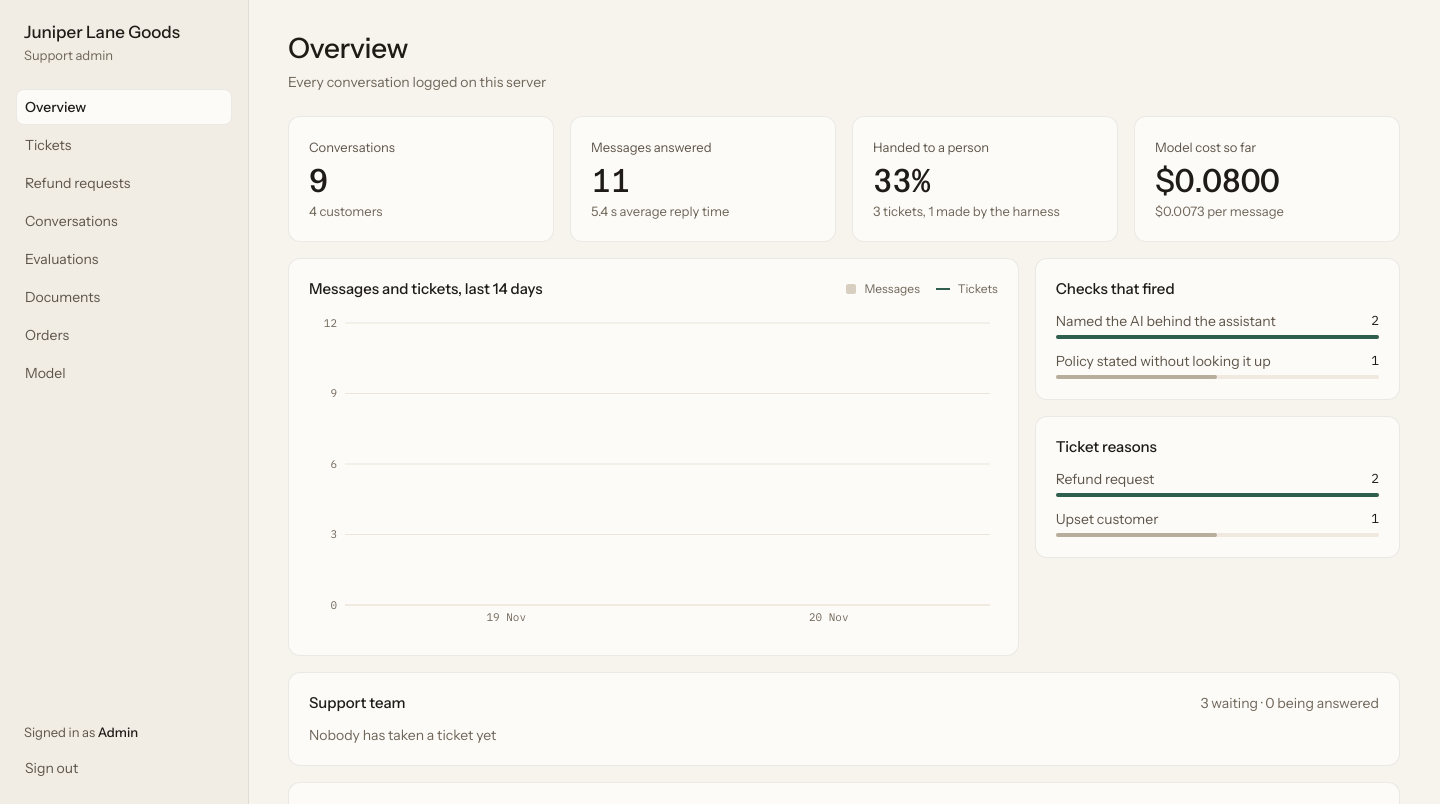
it: tickets › says so when there are no tickets yet
Click the button "Tickets".
click(124, 145)  # box [16,127,232,163]
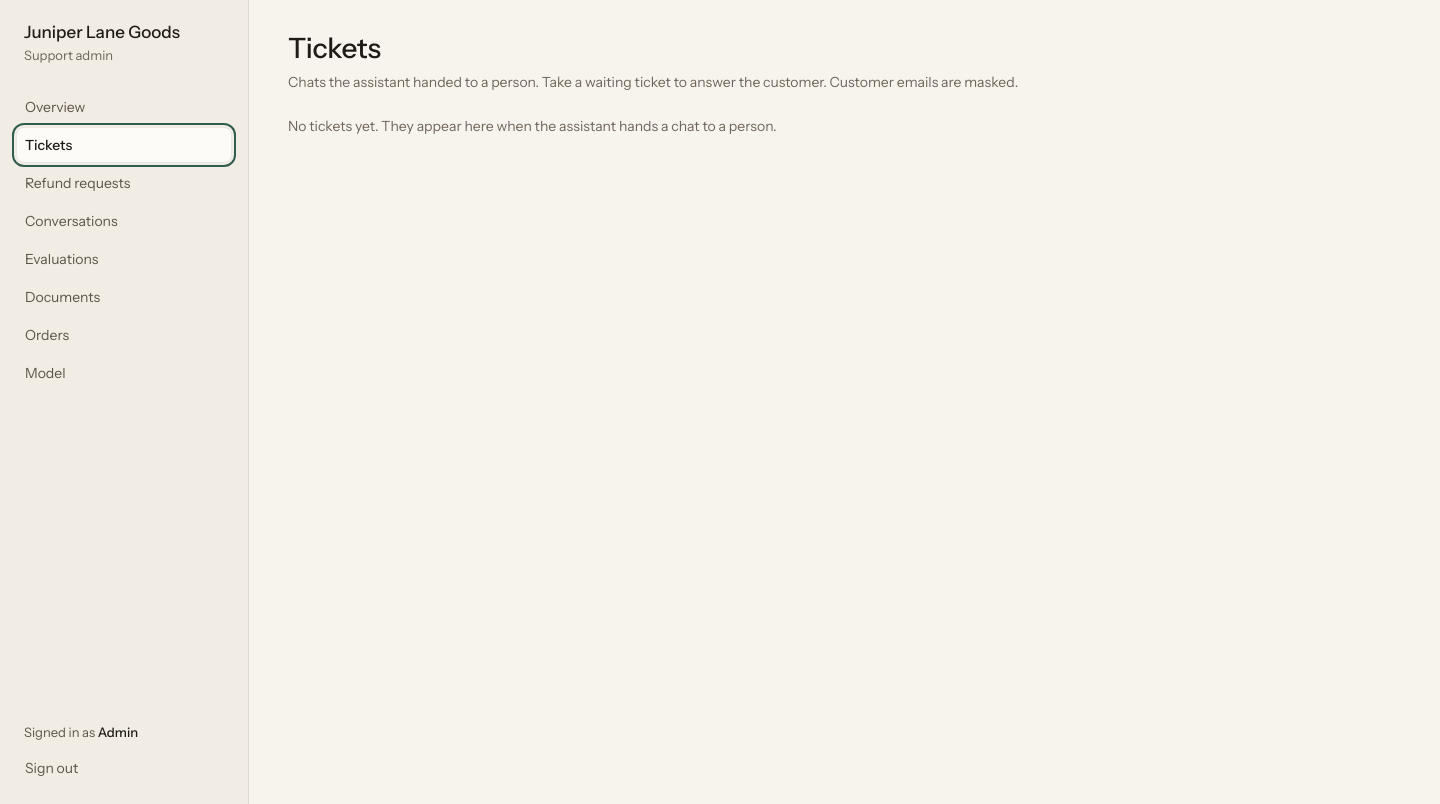
Result: the text "No tickets yet. They appear here" is shown at [288,117,777,135]
